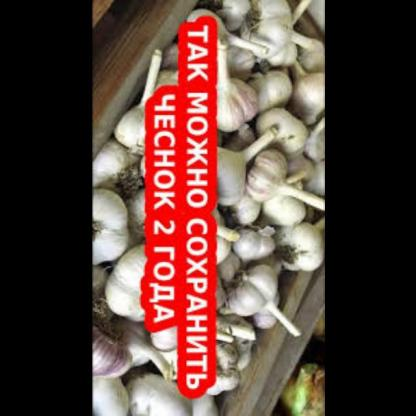garlic: (217, 0, 325, 385), (93, 68, 182, 415)
